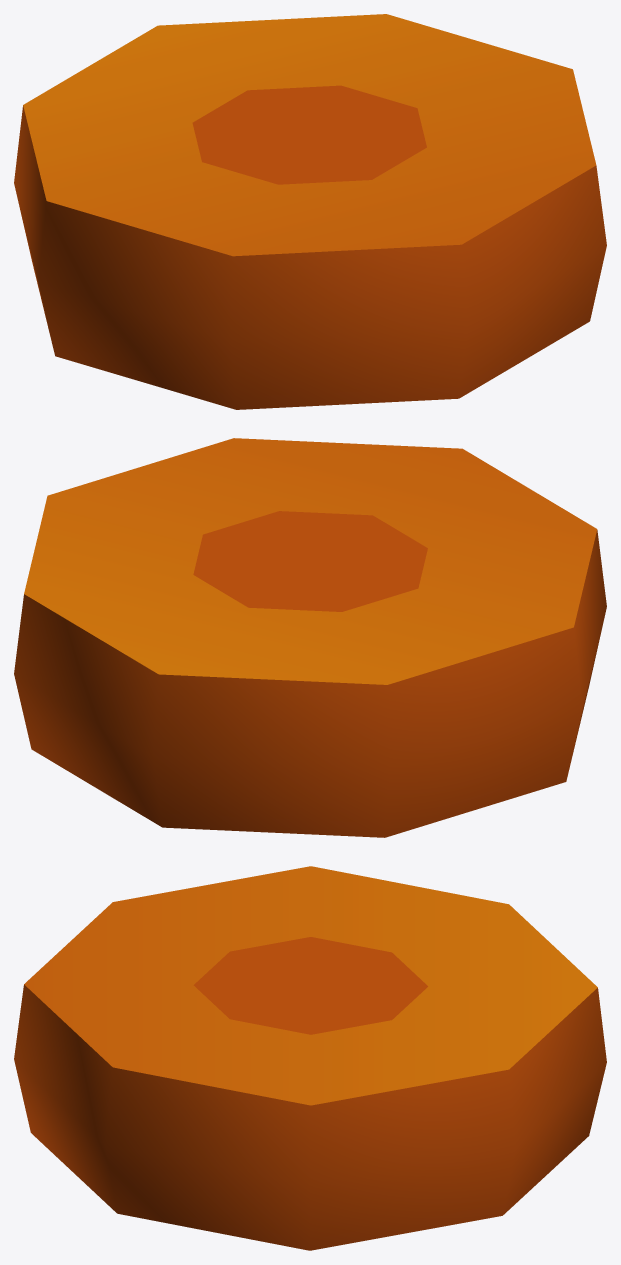
Rendered from Carrot_Slice_02.glb.
The picture shows the model from 3 angles, top to bottom: view 1: azimuth 30°, elevation 25°; view 2: azimuth 150°, elevation 25°; view 3: azimuth 270°, elevation 25°; orthographic projection. The views are drawn at different scales.
Visible parts, largest first — view 1: Carrot_Slice_02; view 2: Carrot_Slice_02; view 3: Carrot_Slice_02.
Part boxes in pixels (bbox=[...]): Carrot_Slice_02: bbox=[14, 14, 606, 409]; Carrot_Slice_02: bbox=[14, 438, 606, 837]; Carrot_Slice_02: bbox=[14, 866, 606, 1250].
Bounding box in the file's own units: 0.1111 × 0.0315 × 0.1111.
Materials: 1 (1 with a texture image).
